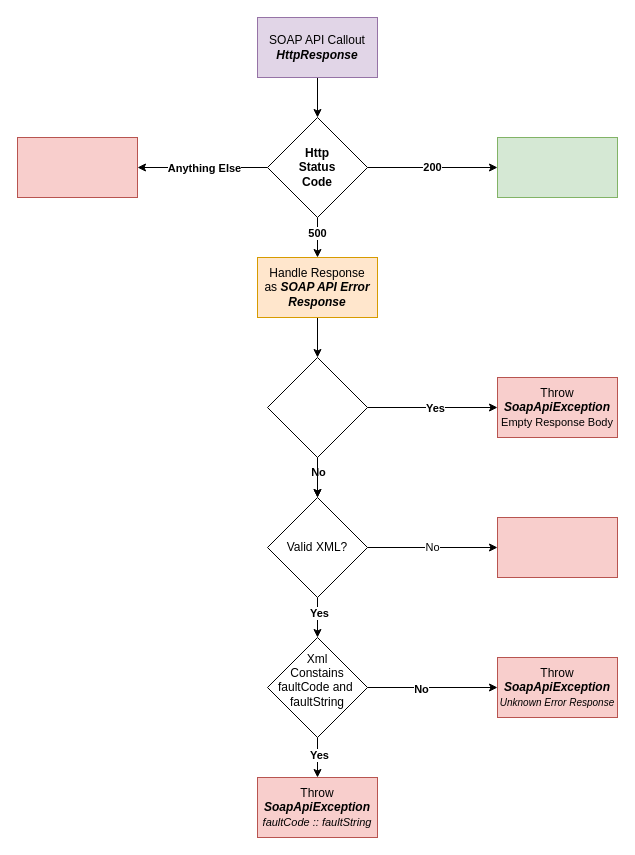
Some shapes in this 635 by 855 pixel diagram are drawn without their labels. The box of each missing label's shape, as (x1, y1, x2, y2) in pixels:
All good Return Intput: (496, 136, 618, 198)
Response Body Empy?: (266, 356, 368, 458)
Throw SoapApiException Unknown Status Code: (16, 136, 138, 198)
Throw SoapApiException Xml Error: (496, 516, 618, 578)
